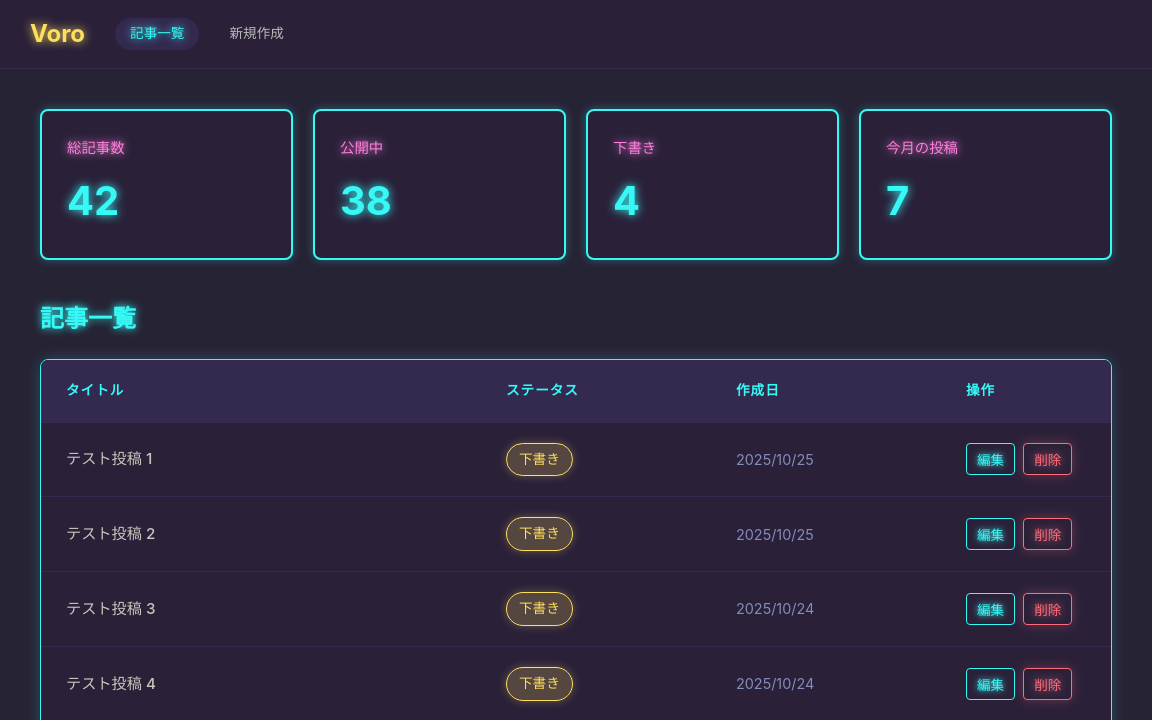
Test: PostListPage - Delete Post › opens delete confirmation modal
Expected: the text "テスト投稿 1" is shown, x1=66 y1=447 x2=152 y2=472
削除ボタンをクリック（aria-labelで特定）
Click the button with aria-label "「テスト投稿 1」を削除" at coordinates (1048, 460), box x1=1023 y1=444 x2=1072 y2=476
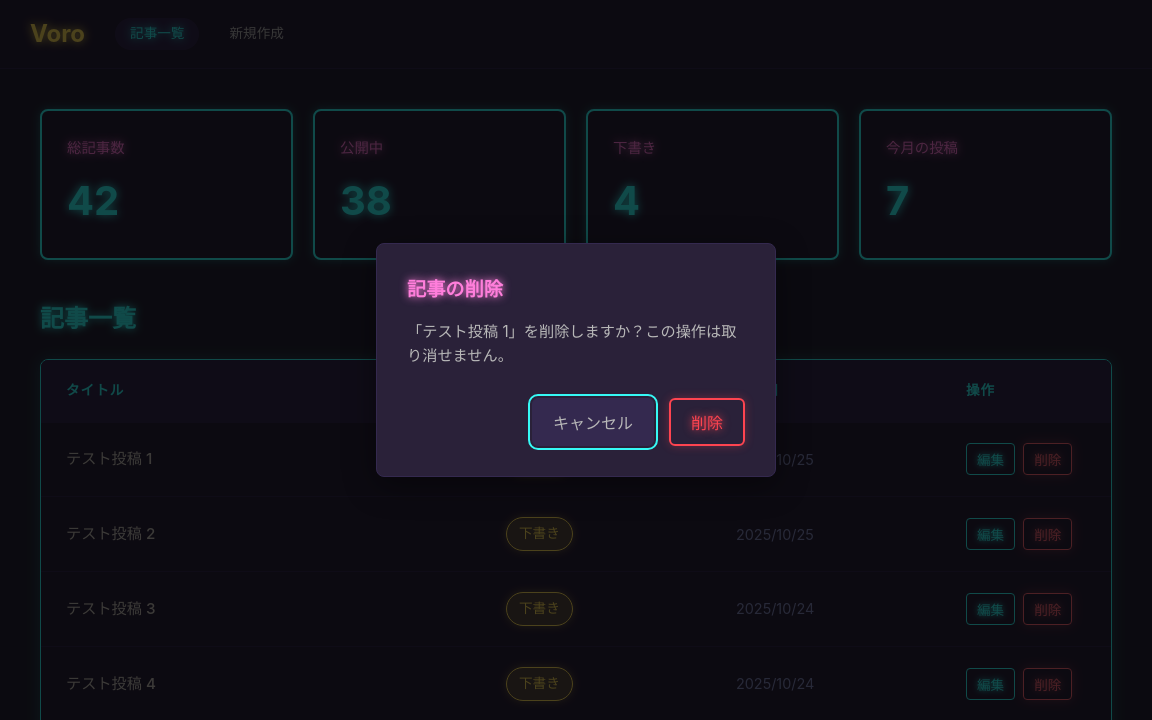
Expected: the dialog is shown, x1=376 y1=243 x2=776 y2=477
Expected: the heading "記事の削除" is shown, x1=407 y1=277 x2=503 y2=301
Expected: the text "「テスト投稿 1」を削除しますか？この操作は取り消せません。" is shown, x1=407 y1=320 x2=745 y2=368
